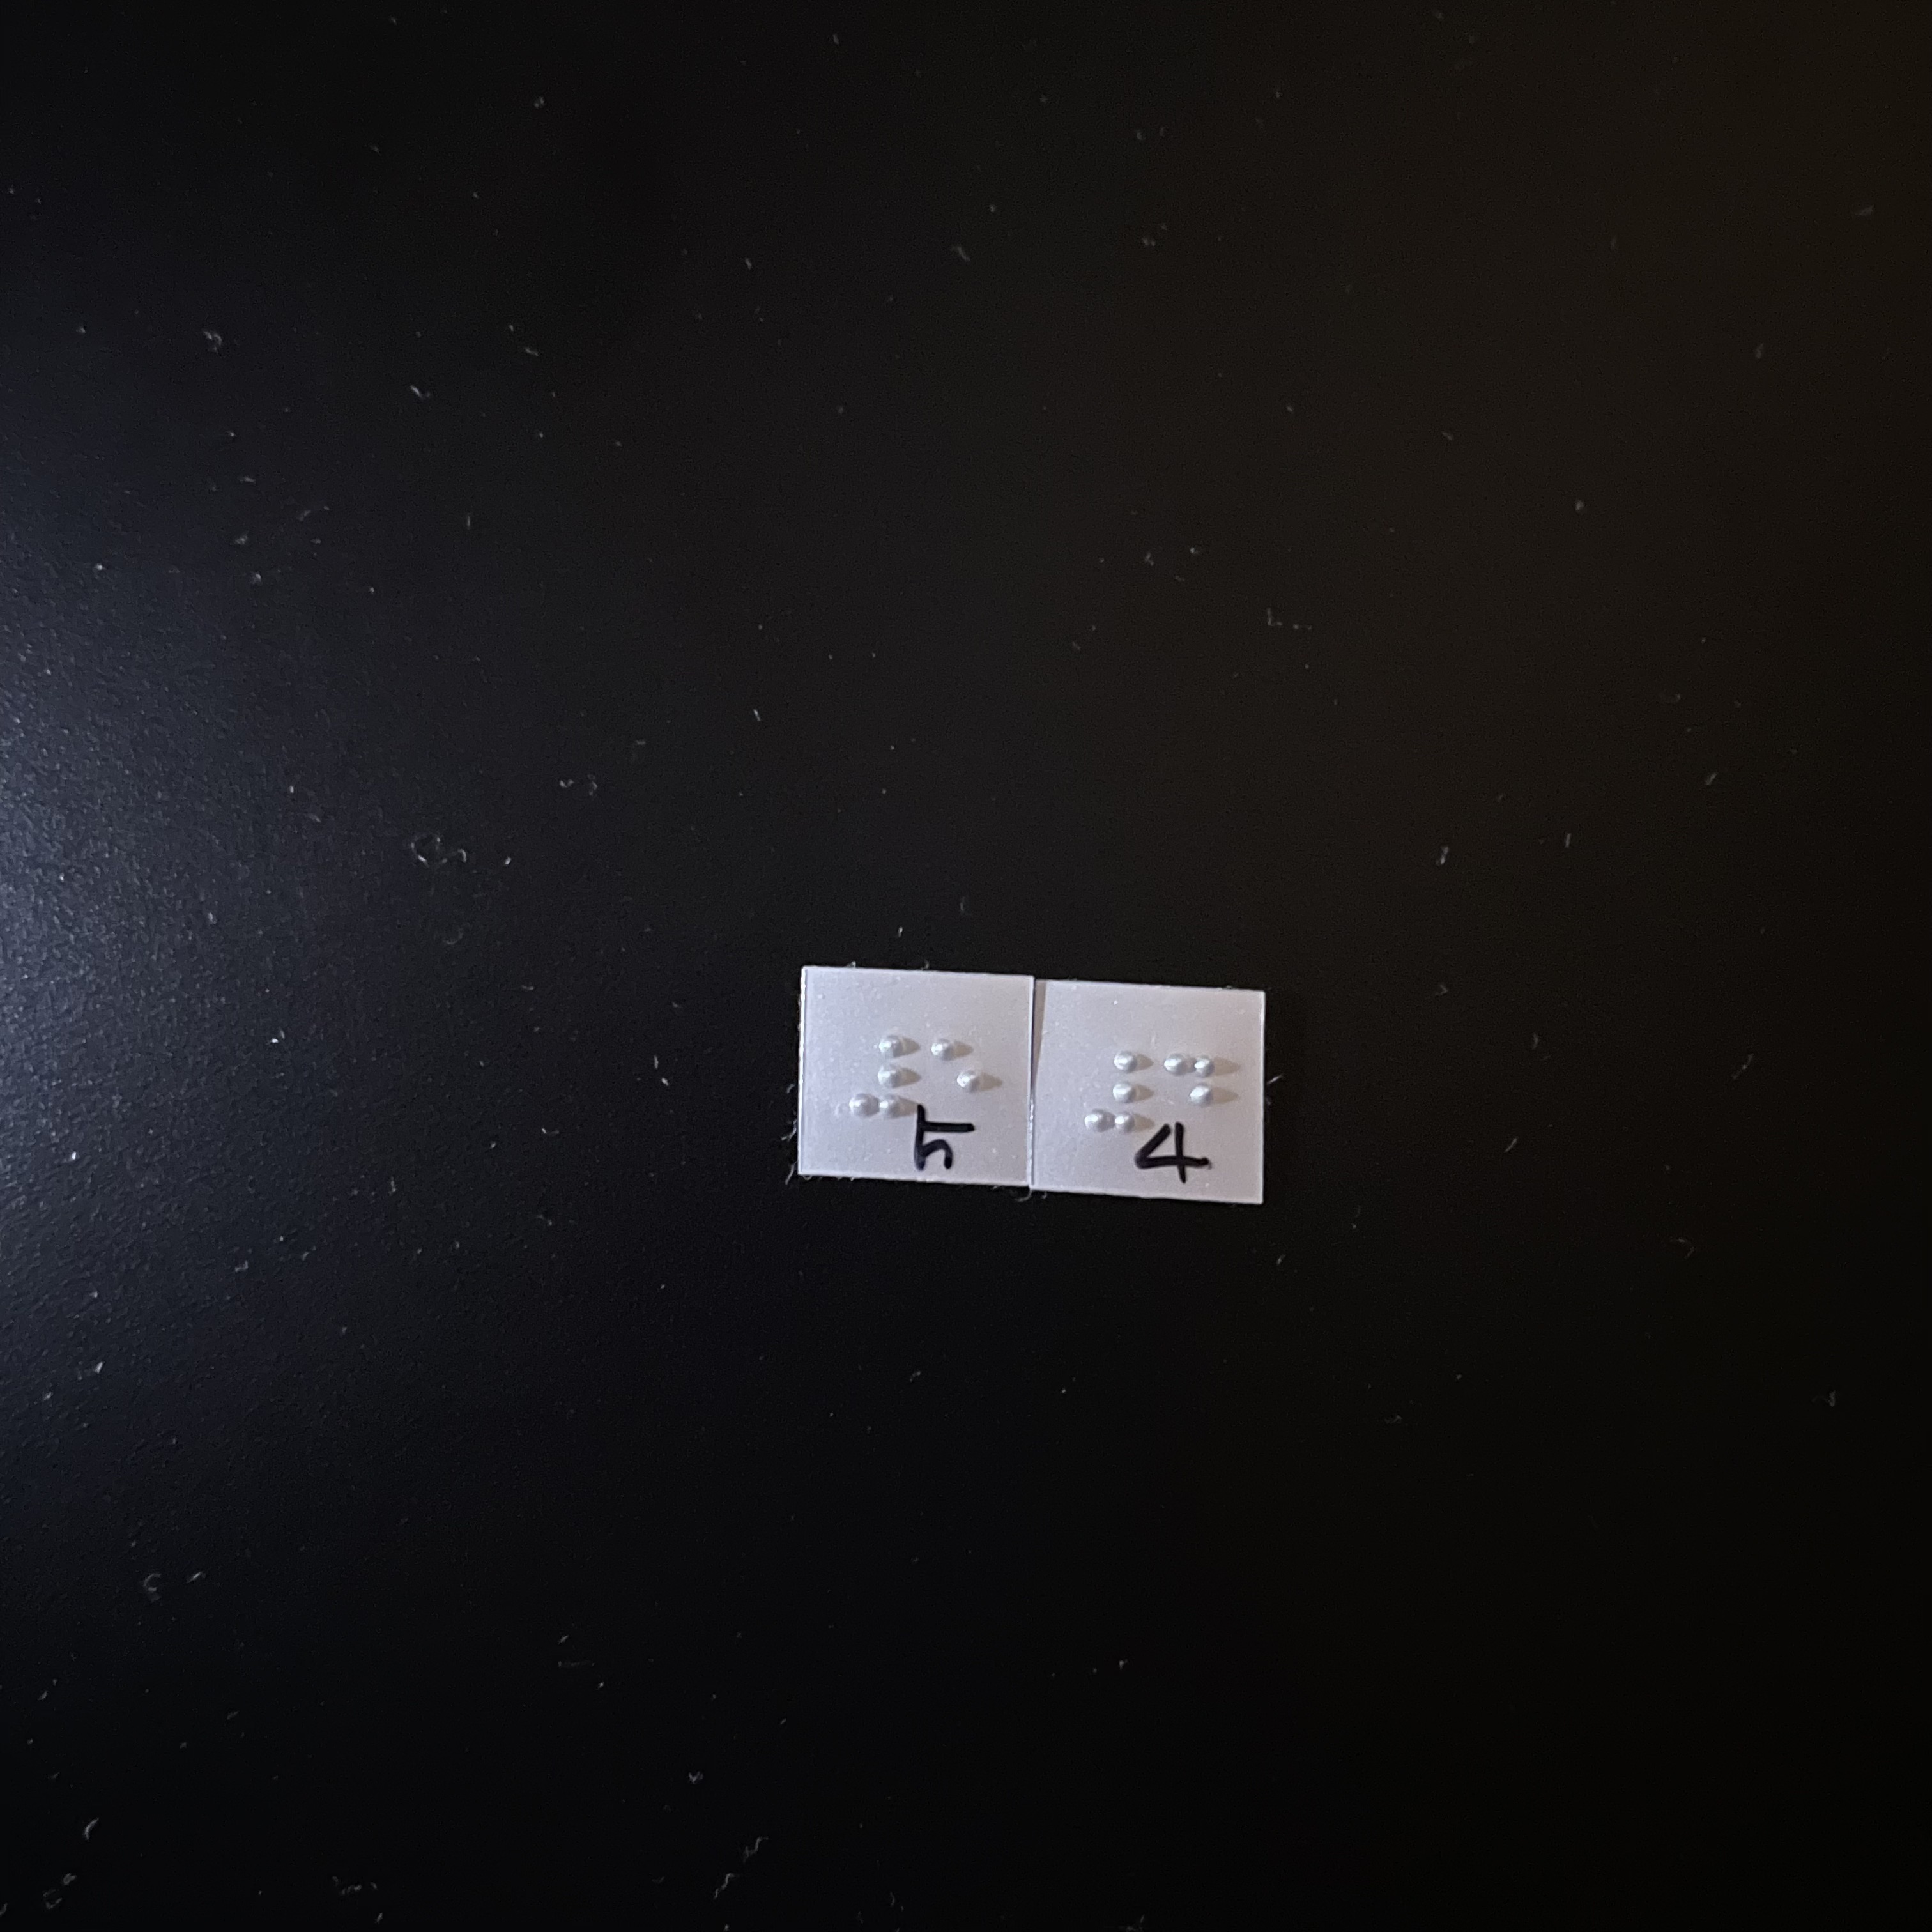#: (1075, 1039, 1157, 1137), (842, 1029, 917, 1126)
d: (1159, 1039, 1230, 1143)
e: (921, 1029, 990, 1130)
